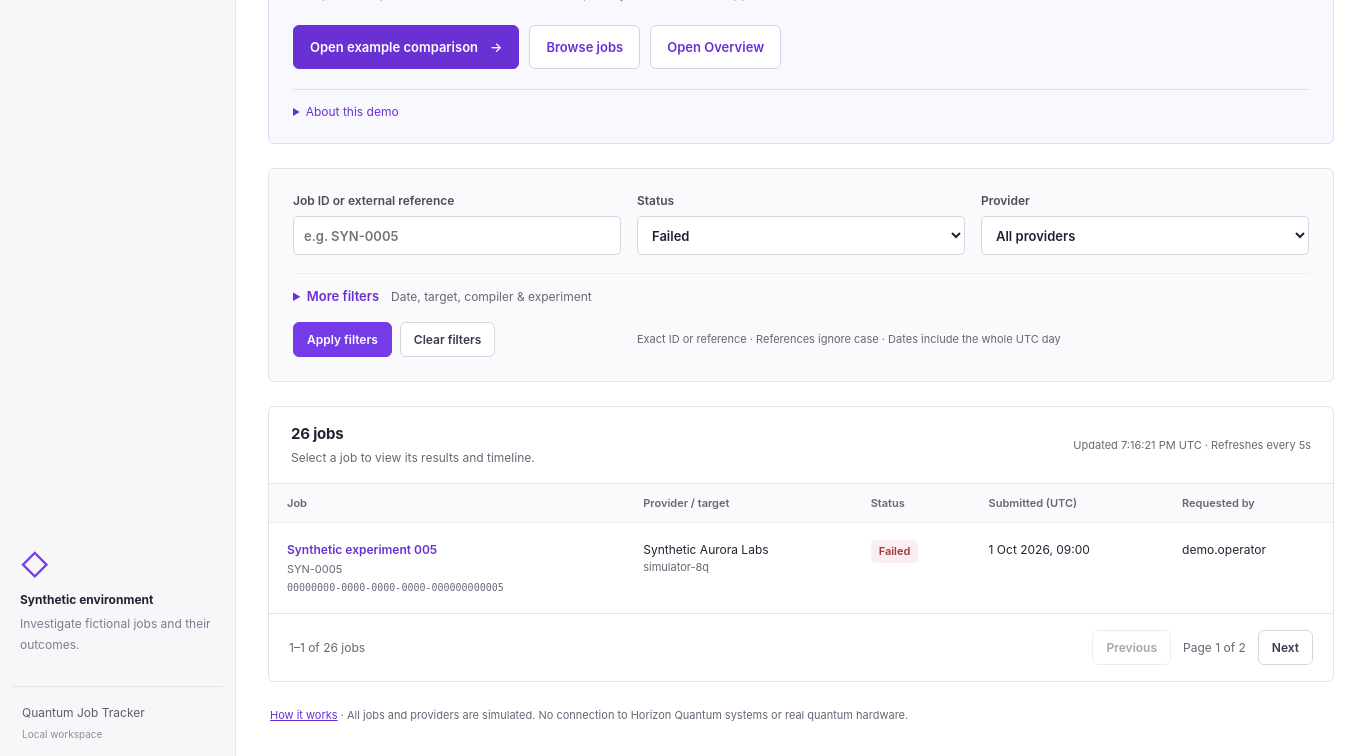
jobs page › preserves applied filters when changing page and handles browser navigation
This screenshot has width=1366, height=756.
(page scrolled)
Expected: the table is shown, [269,484,1333,613]
Click the button "Next".
click(1285, 648)  # box [1258,630,1313,665]
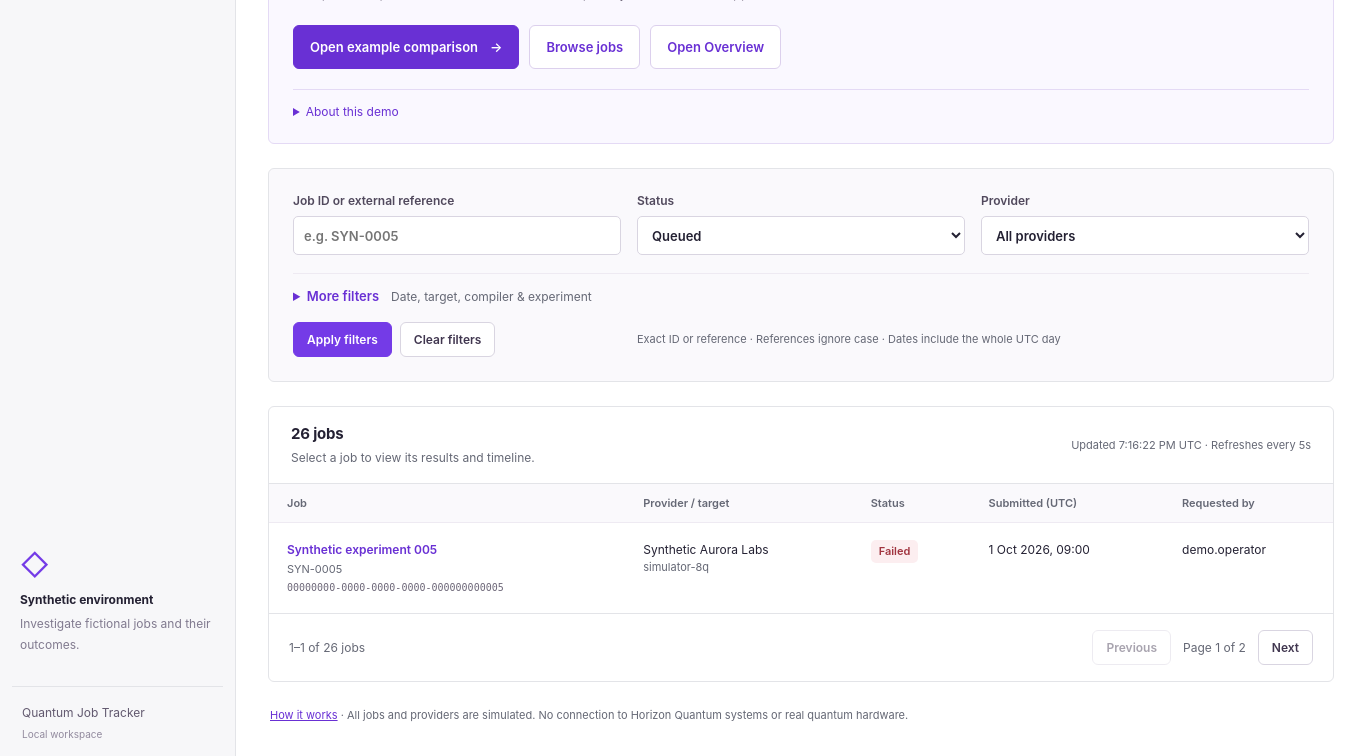
Now the dropdown labelled "Status" shows "Queued", box [637,216,965,255]
